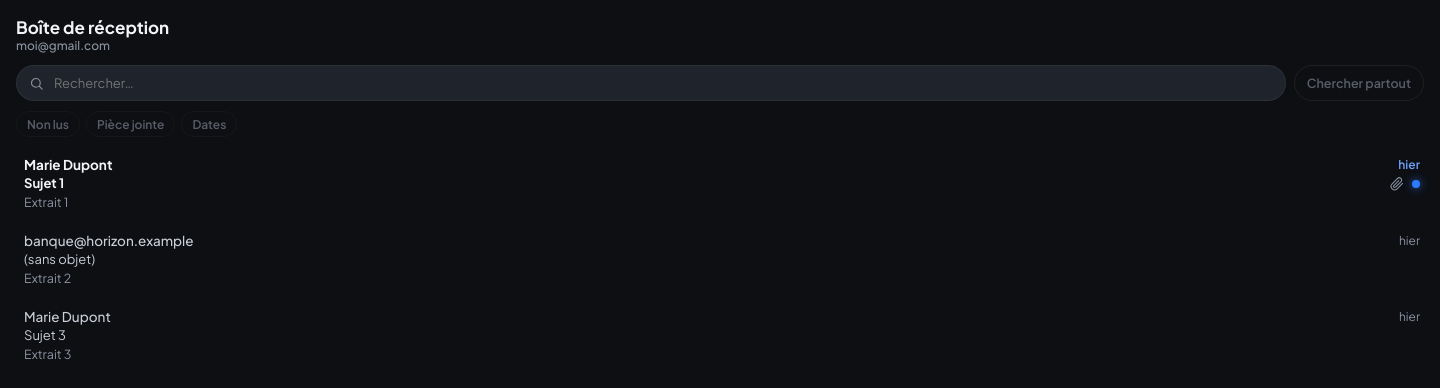
Test: right click opens menu with reply actions
Right-click the text "Sujet 3" at (45, 335), box [24,327,66,343]
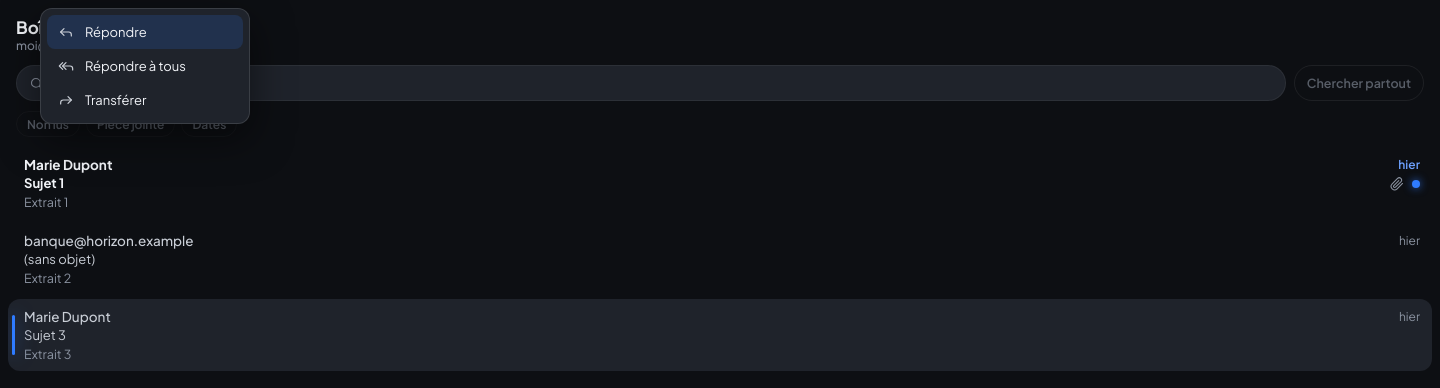
Expected: the menu items read "Répondre", "Répondre à tous", "Transférer", in this order, [47,15,243,49]; [58,58,186,74]; [58,92,146,108]
Press ArrowDown in the menu, box [40,8,250,124]
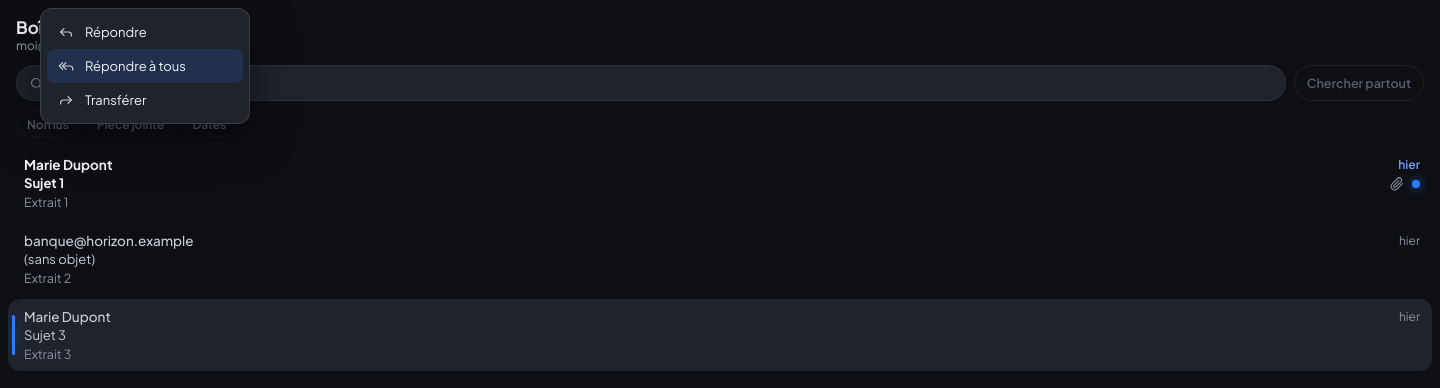
Press ArrowDown in the menu, box [40,8,250,124]
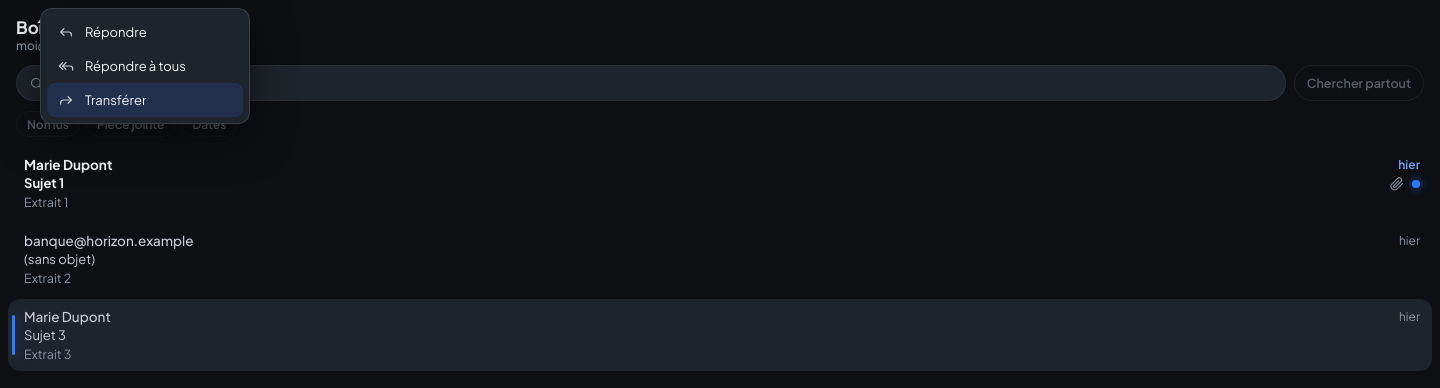
Press Enter in the menu, box [40,8,250,124]
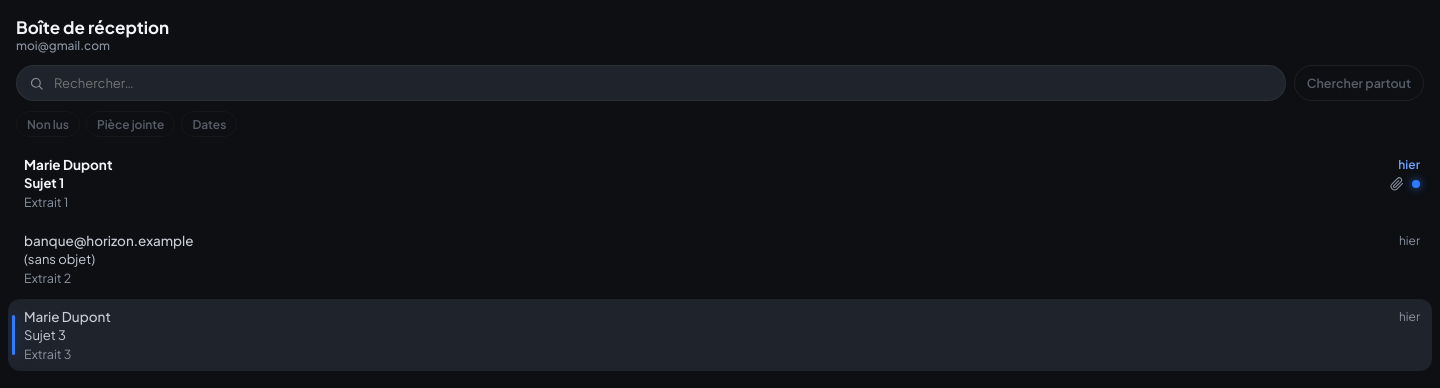
Expected: the menu is gone
